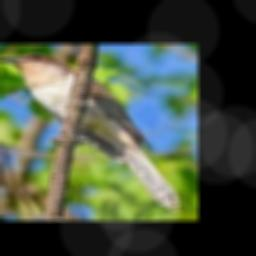Cuckoo: (0, 54, 181, 211)
